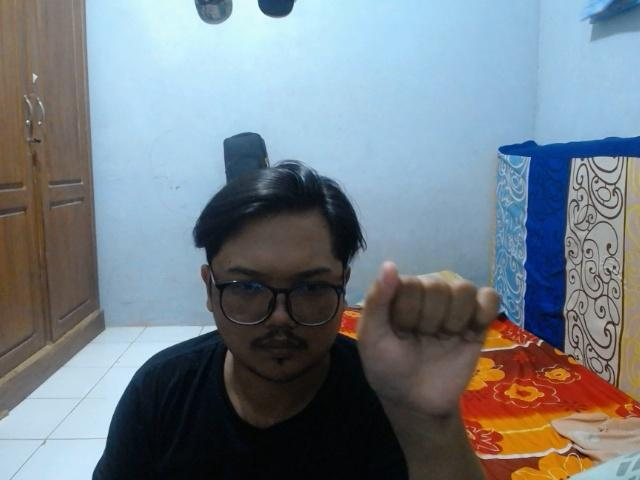Grab: (351, 258, 506, 418)
